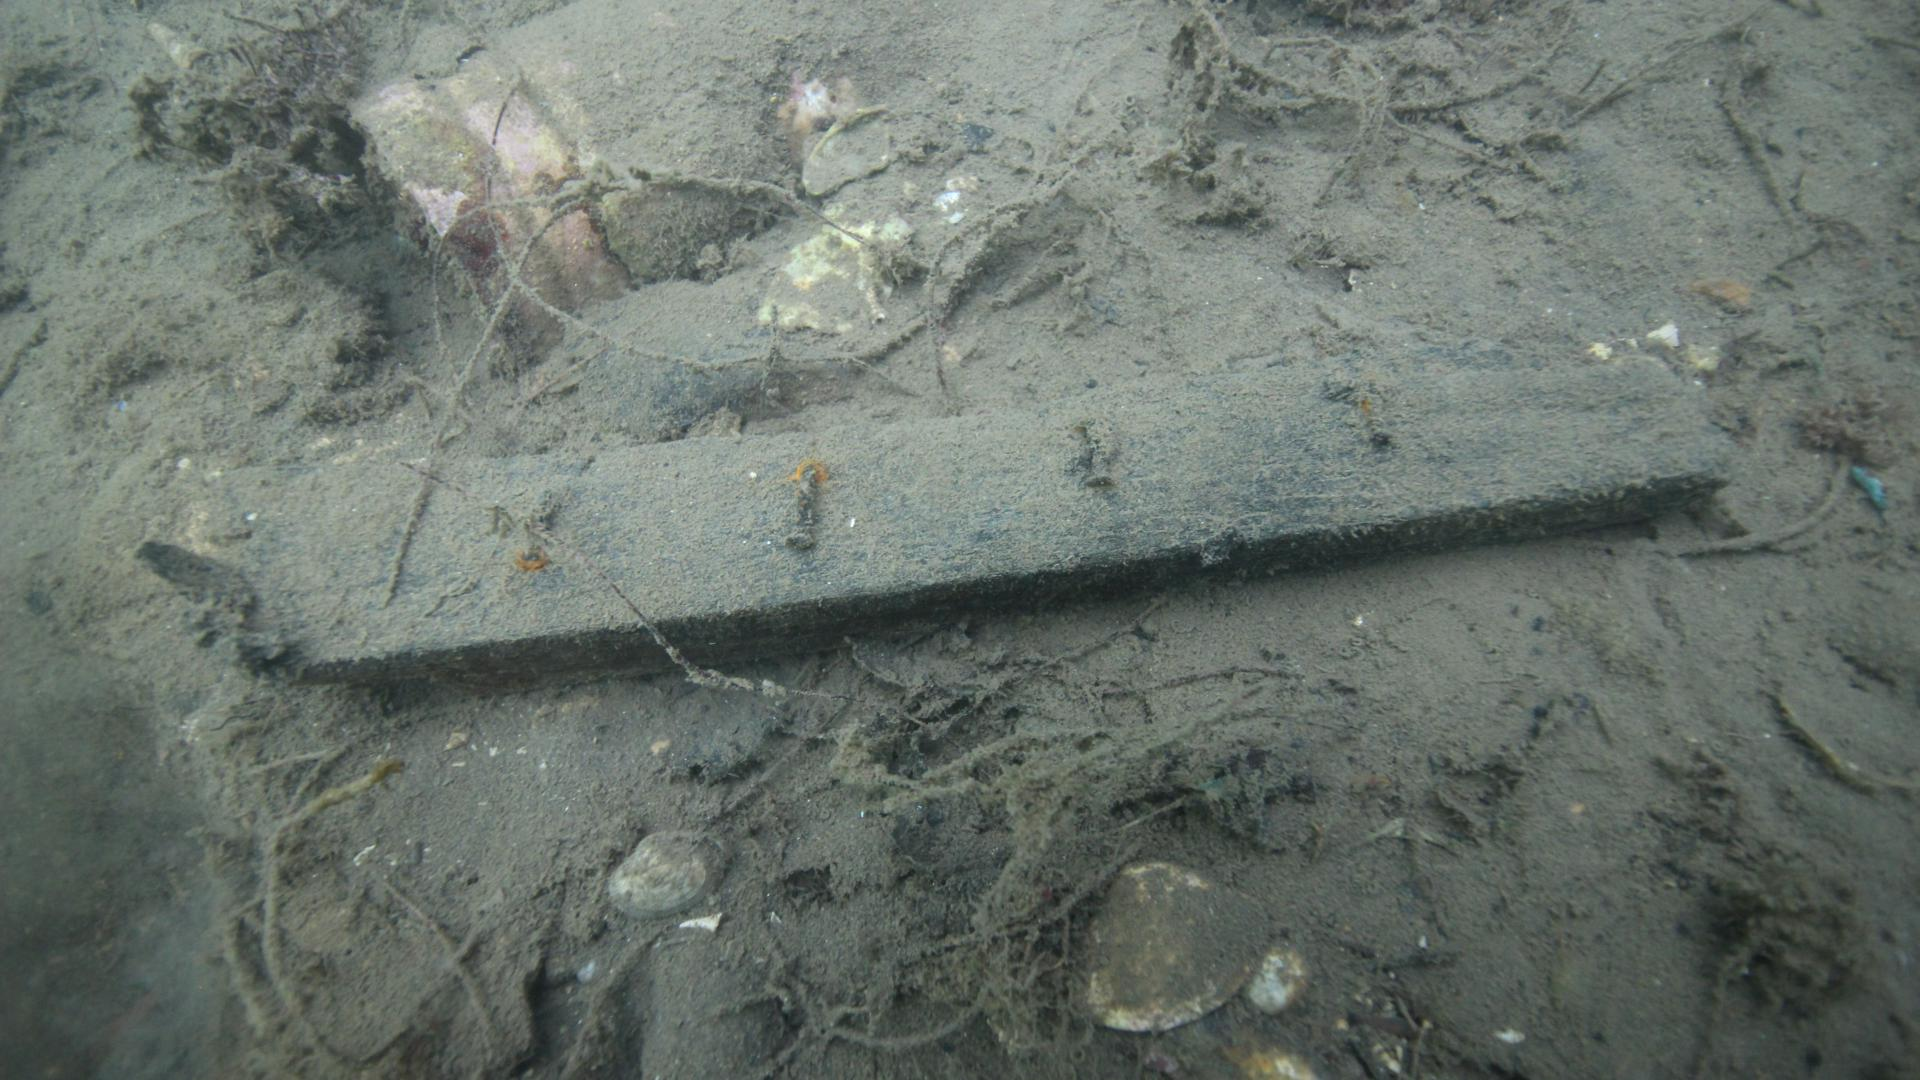wood: (129, 332, 1730, 695)
